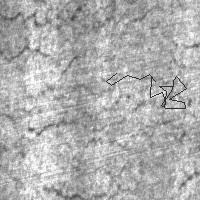crazing: (1, 45, 127, 147), (18, 95, 182, 157), (1, 6, 147, 65), (54, 1, 177, 37), (106, 73, 186, 108)
